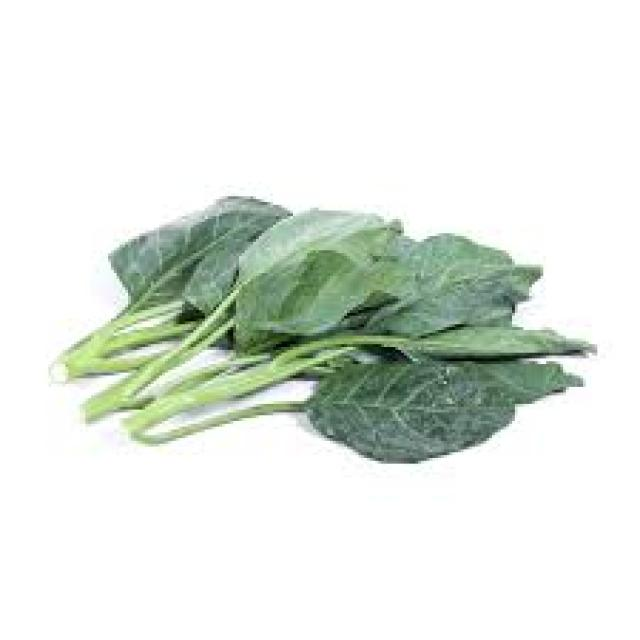collard: (43, 196, 587, 464)
